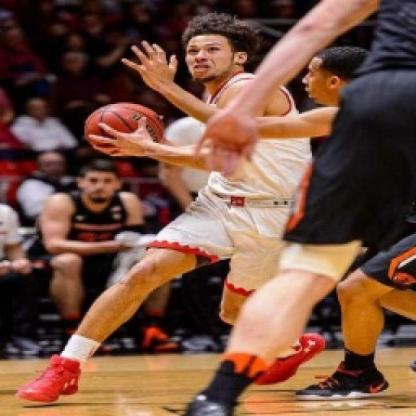basketball: (85, 101, 167, 160)
